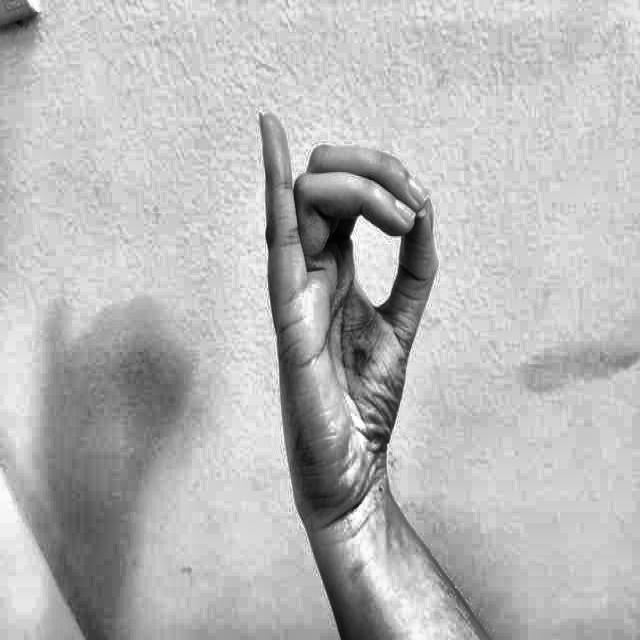Ou: (234, 72, 447, 525)
